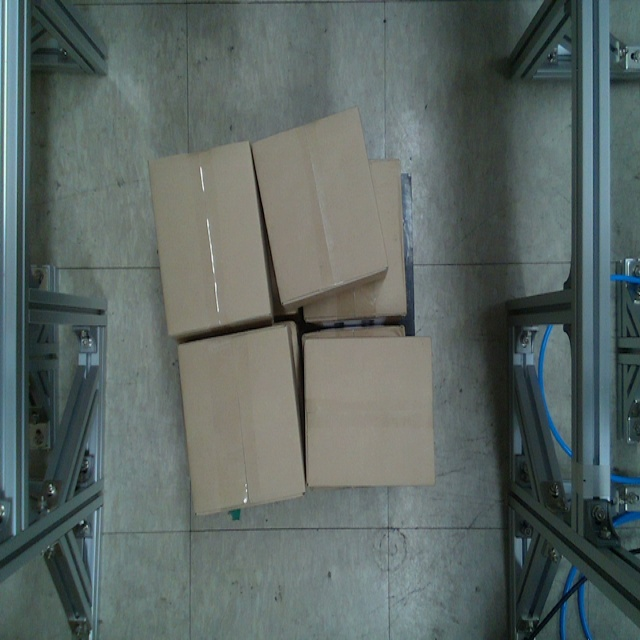box: (250, 105, 390, 312), (173, 321, 309, 520), (146, 139, 277, 341), (305, 337, 435, 486)
